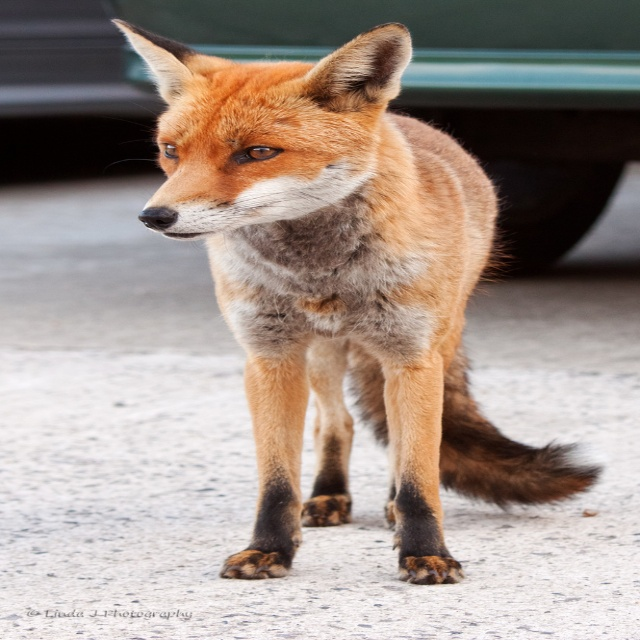Fox: (108, 16, 607, 586)
